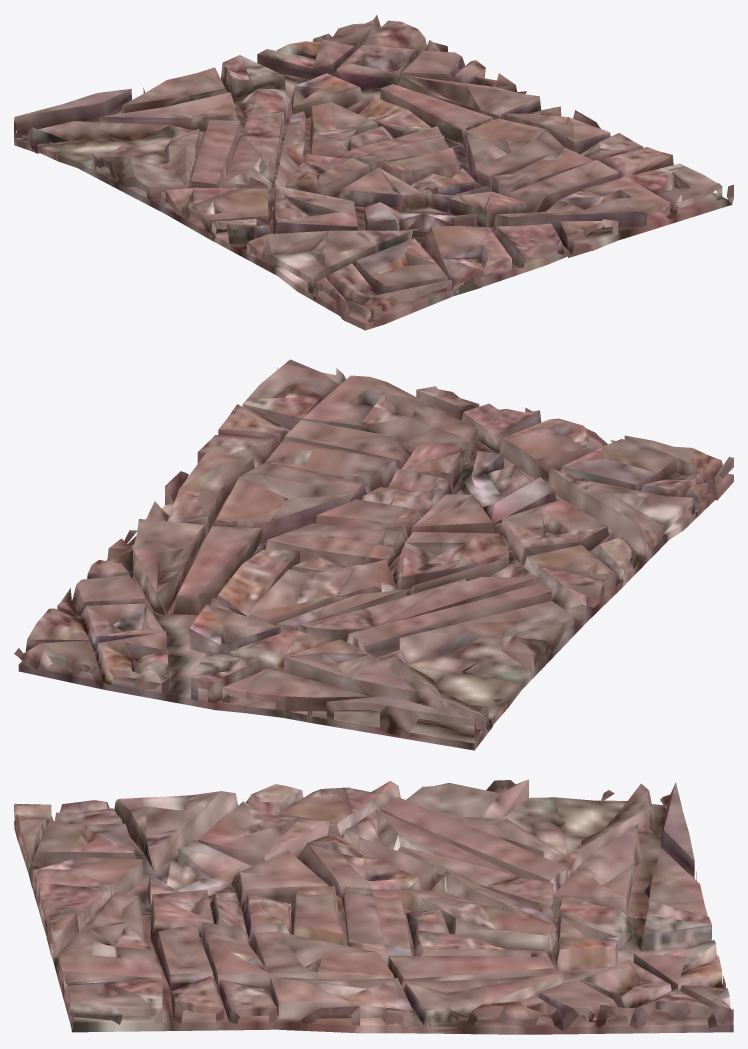
3 renders of one model, top to bottom at view 1: azimuth 30°, elevation 25°; view 2: azimuth 150°, elevation 25°; view 3: azimuth 270°, elevation 25°, orthographic. The views are drawn at different scales.
Visible parts, largest first — view 1: Mesh_0; view 2: Mesh_0; view 3: Mesh_0.
Part boxes in pixels (box(x1,y1,x2,y2)): Mesh_0: box(14, 15, 733, 330); Mesh_0: box(14, 359, 733, 750); Mesh_0: box(14, 779, 733, 1034).
Bounding box in the file's own units: 540 × 71.98 × 659.
2 materials, 2 textured.
